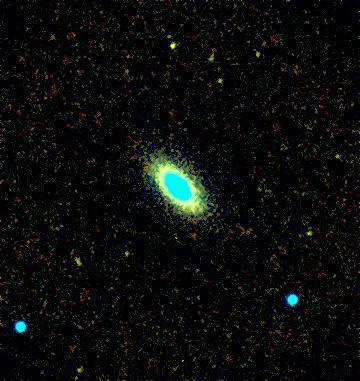star: (62, 353, 92, 381)
